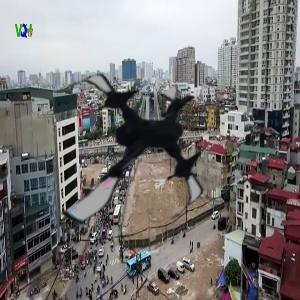drone: (37, 61, 219, 243)
